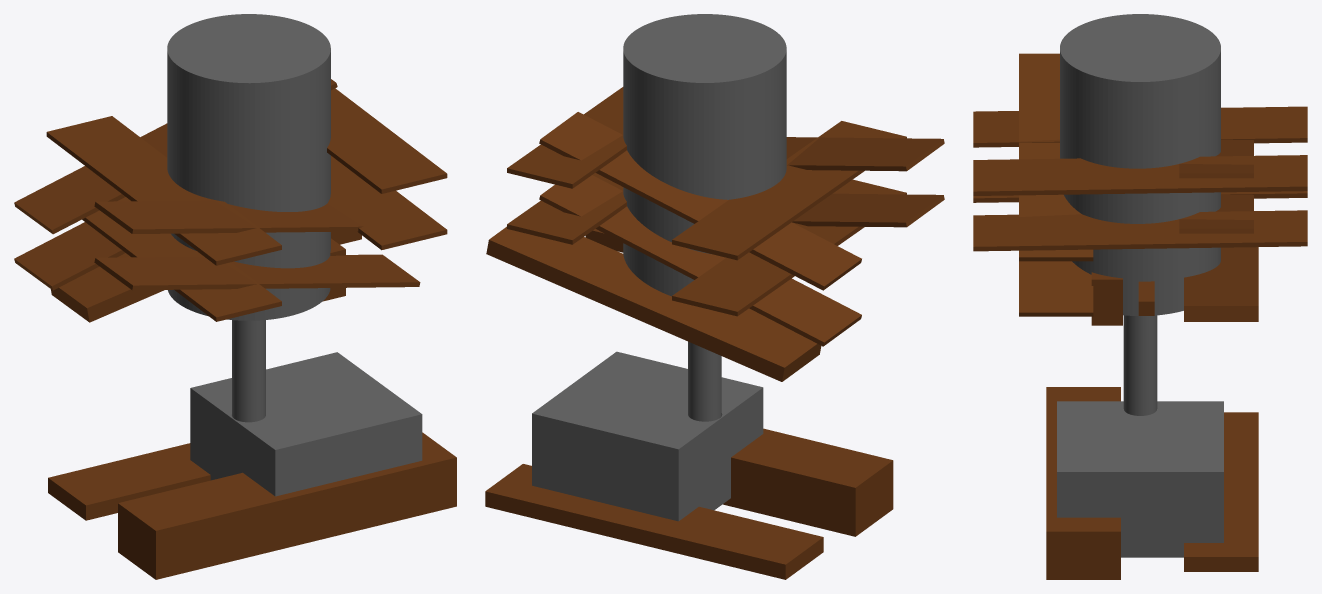
The model's file is shroom_dungeon.glb.
The picture shows the model from 3 angles, left to right: view 1: azimuth 30°, elevation 25°; view 2: azimuth 150°, elevation 25°; view 3: azimuth 270°, elevation 25°; orthographic projection.
Parts seen in each view (by area): view 1: outside, Cube.012, sub_1, Cube.008, Cube.003, Cube.007, Cube.011, Cube.010, Cube.006, Cube.004, Cube.009, Cube.005 (+1 smaller); view 2: outside, sub_1, Cube, Cube.011, Cube.012, Cube.009, Cube.005, Cube.008, Cube.004, Cube.007, Cube.003, Cube.010 (+1 smaller); view 3: outside, sub_1, Cube.010, Cube.006, Cube.012, Cube.011, Cube.007, Cube.008, Cube, Cube.003, Cube.009, Cube.005 (+3 smaller).
Part boxes in pixels (x1,y1,x2,y2): outside: (167,14,330,422); Cube.012: (118,432,456,579); sub_1: (190,352,422,496); Cube.008: (46,116,281,265); Cube.003: (94,254,420,290); Cube.007: (94,200,363,233); Cube.011: (48,443,210,520); Cube.010: (327,88,447,193); Cube.006: (327,156,447,250); Cube.004: (82,197,281,321); Cube.009: (14,79,337,234); Cube.005: (14,222,125,290); outside: (623,14,786,421); sub_1: (532,351,763,521); Cube: (486,226,821,381); Cube.011: (485,464,823,579); Cube.012: (723,428,893,536); Cube.009: (539,112,861,290); Cube.005: (539,175,861,346); Cube.008: (672,121,906,260); Cube.004: (672,179,906,316); Cube.007: (786,137,944,171); Cube.003: (792,193,944,227); Cube.010: (507,87,626,188); outside: (1060,14,1220,415); sub_1: (1057,401,1223,557); Cube.010: (973,155,1307,195); Cube.006: (973,210,1307,251); Cube.012: (1046,387,1120,579); Cube.011: (1184,412,1258,571); Cube.007: (1019,53,1093,261); Cube.008: (973,106,1307,147); Cube: (1184,247,1258,321); Cube.003: (1019,261,1093,316); Cube.009: (1179,140,1253,178); Cube.005: (1179,195,1253,233).
Bounding box in the file's own units: 114 × 149 × 99.13.
